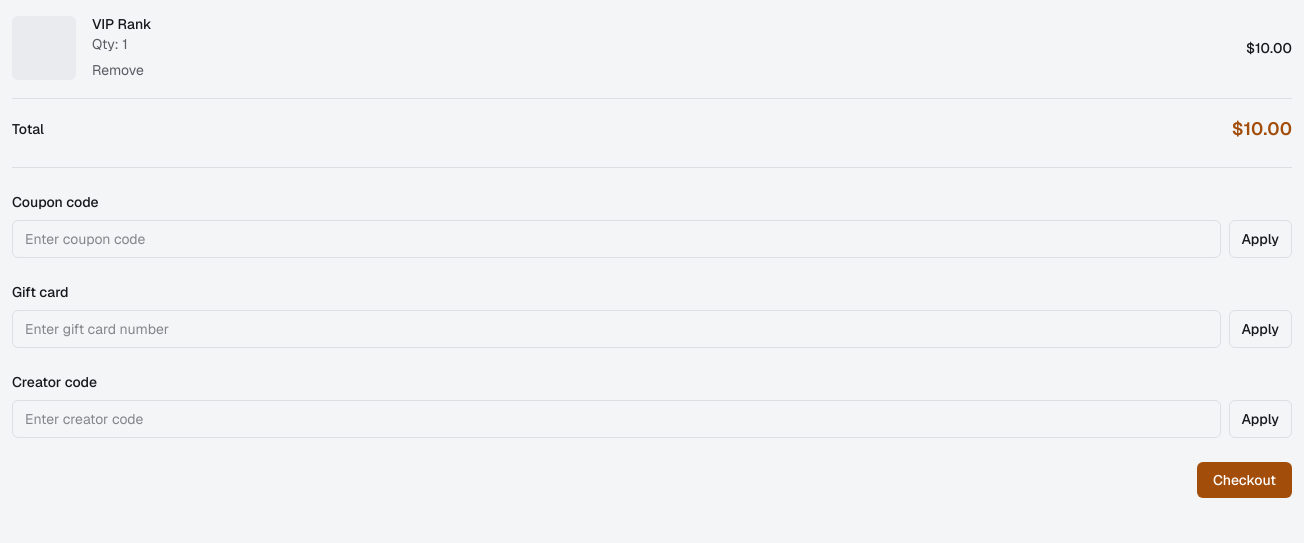
Test: CheckoutPanel — payment:error › shows a visible error message and stays on the basket view
The image size is (1304, 543).
Click the button "Checkout": [1244, 480] box [1197,462,1292,498]
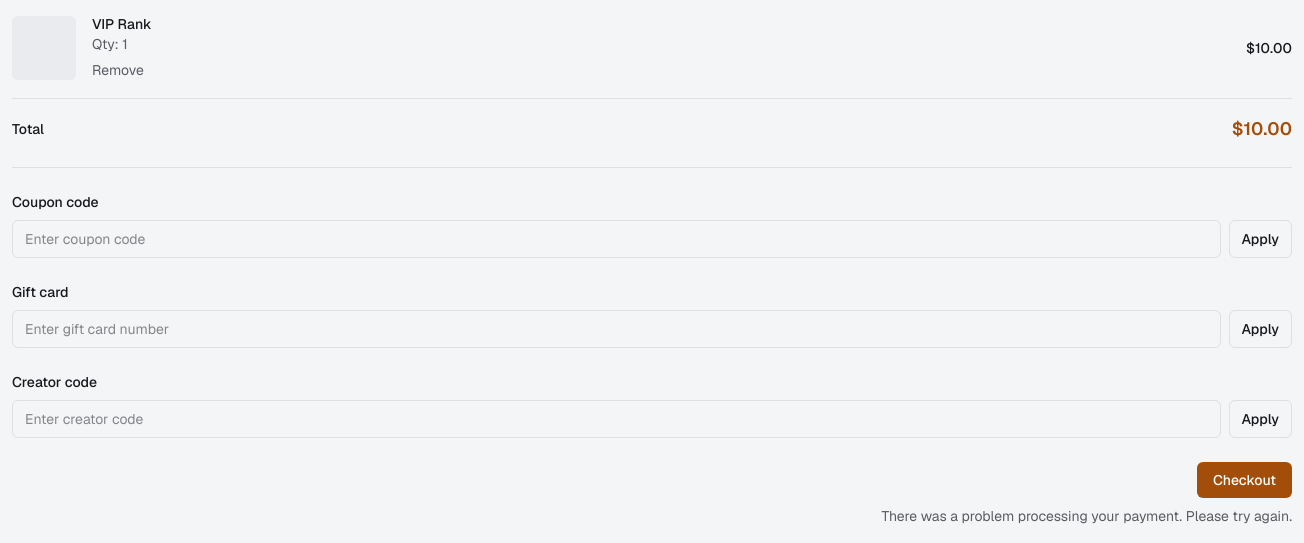
Now the text "There was a problem processing your payment. Please try again." is shown, box [882,506,1292,526]
